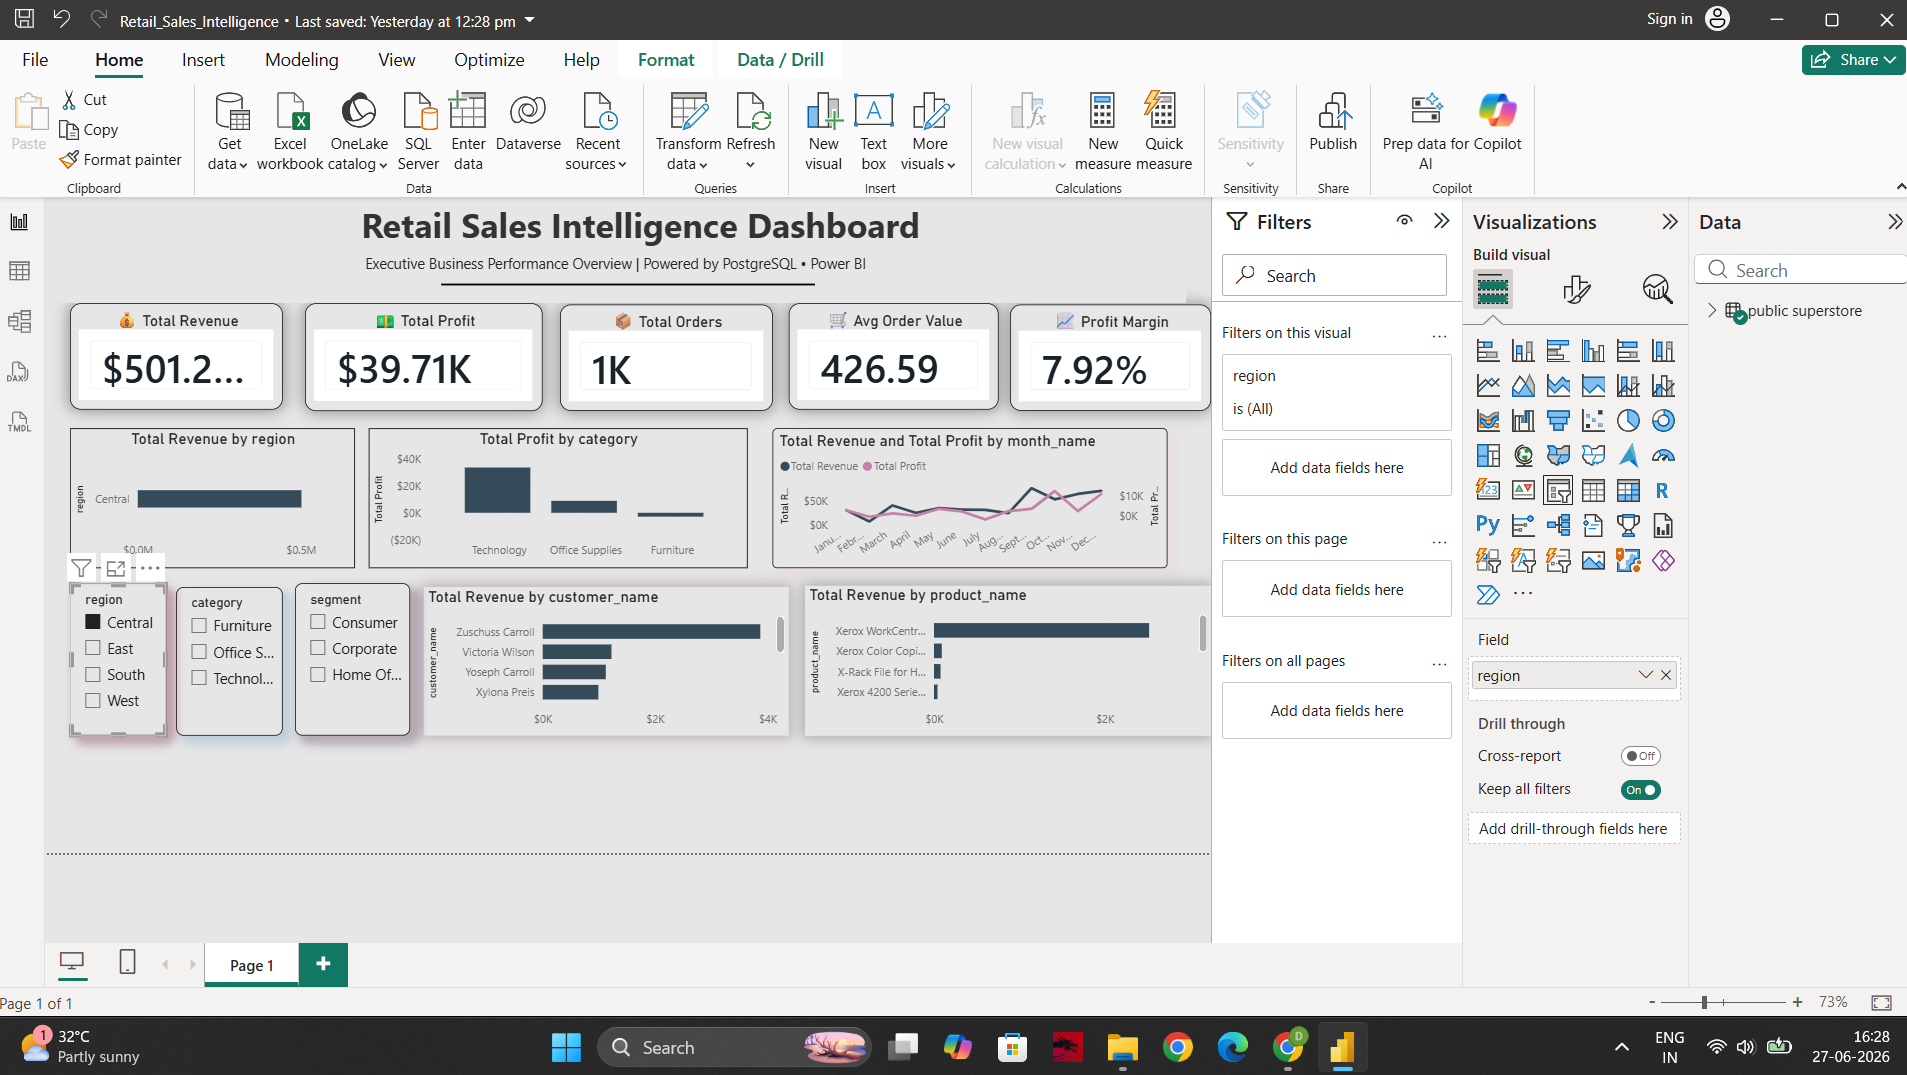

The dashboard page shown, as its layout file describes it:
{"tool":"powerbi","page":{"name":"Page 1","canvas":[1280,720],"ordinal":0},"visuals":[{"type":"cardVisual","title":"💰 Total Revenue","fields":{"Data":["public superstore.Total Revenue"]},"box":[27.4,116.6,233.3,116.6],"z":0},{"type":"cardVisual","title":"💵 Total Profit","fields":{"Data":["public superstore.Total Profit"]},"box":[285.4,116.6,260.7,118],"z":1000},{"type":"cardVisual","title":"📦 Total Orders","fields":{"Data":["public superstore.Total Orders"]},"box":[565.4,118,233.3,116.6],"z":2000},{"type":"cardVisual","title":"🛒 Avg Order Value","fields":{"Data":["public superstore.Average Order Value"]},"box":[816.5,116.6,230.5,116.6],"z":3000},{"type":"cardVisual","title":"📈 Profit Margin","fields":{"Data":["public superstore.Profit Margin"]},"box":[1059.4,118,220.9,116.6],"z":4000},{"type":"textbox","box":[27.4,0,1252.8,65.9],"z":5000},{"type":"textbox","box":[0,56.3,1252.8,60.4],"z":6000},{"type":"shape","box":[435,56.3,410.3,79.6],"z":7000},{"type":"clusteredBarChart","fields":{"Category":["public superstore.region"],"Y":["public superstore.Total Revenue"]},"box":[27.4,253.9,312.9,153.7],"z":8000},{"type":"clusteredColumnChart","fields":{"Category":["public superstore.category"],"Y":["public superstore.Total Profit"]},"box":[355.4,253.9,415.8,153.7],"z":9000},{"type":"lineChart","fields":{"Y":["public superstore.Total Revenue"],"Category":["public superstore.month_name"],"Y2":["public superstore.Total Profit"]},"box":[798.6,253.9,433.6,153.7],"z":10000},{"type":"clusteredBarChart","fields":{"Category":["public superstore.customer_name"],"Y":["public superstore.Total Revenue"]},"box":[415.8,428.1,400.7,163.3],"z":11000},{"type":"clusteredBarChart","fields":{"Category":["public superstore.product_name"],"Y":["public superstore.Total Revenue"]},"box":[834.3,426.8,446,164.7],"z":12000},{"type":"slicer","fields":{"Values":["public superstore.category"]},"box":[144.1,428.1,116.6,163.3],"z":13000},{"type":"slicer","fields":{"Values":["public superstore.region"]},"box":[27.4,424,105.7,167.4],"z":14000},{"type":"slicer","fields":{"Values":["public superstore.segment"]},"box":[274.4,424,126.2,167.4],"z":14001}]}

Visuals, with their boxes on the page's 1280x720 design canvas (x1, y1, x2, y2). These are canvas units, not pixel positions in the 1907x1075 screenshot, which may show the page scaled, cropped or inside an application window:
"💰 Total Revenue" cardVisual: detection(27, 117, 261, 233)
"💵 Total Profit" cardVisual: detection(285, 117, 546, 235)
"📦 Total Orders" cardVisual: detection(565, 118, 799, 235)
"🛒 Avg Order Value" cardVisual: detection(816, 117, 1047, 233)
"📈 Profit Margin" cardVisual: detection(1059, 118, 1280, 235)
textbox: detection(27, 0, 1280, 66)
textbox: detection(0, 56, 1253, 117)
shape: detection(435, 56, 845, 136)
clusteredBarChart - public superstore.region x public superstore.Total Revenue: detection(27, 254, 340, 408)
clusteredColumnChart - public superstore.category x public superstore.Total Profit: detection(355, 254, 771, 408)
lineChart - public superstore.Total Revenue x public superstore.month_name: detection(799, 254, 1232, 408)
clusteredBarChart - public superstore.customer_name x public superstore.Total Revenue: detection(416, 428, 816, 591)
clusteredBarChart - public superstore.product_name x public superstore.Total Revenue: detection(834, 427, 1280, 592)
slicer - public superstore.category: detection(144, 428, 261, 591)
slicer - public superstore.region: detection(27, 424, 133, 591)
slicer - public superstore.segment: detection(274, 424, 401, 591)
